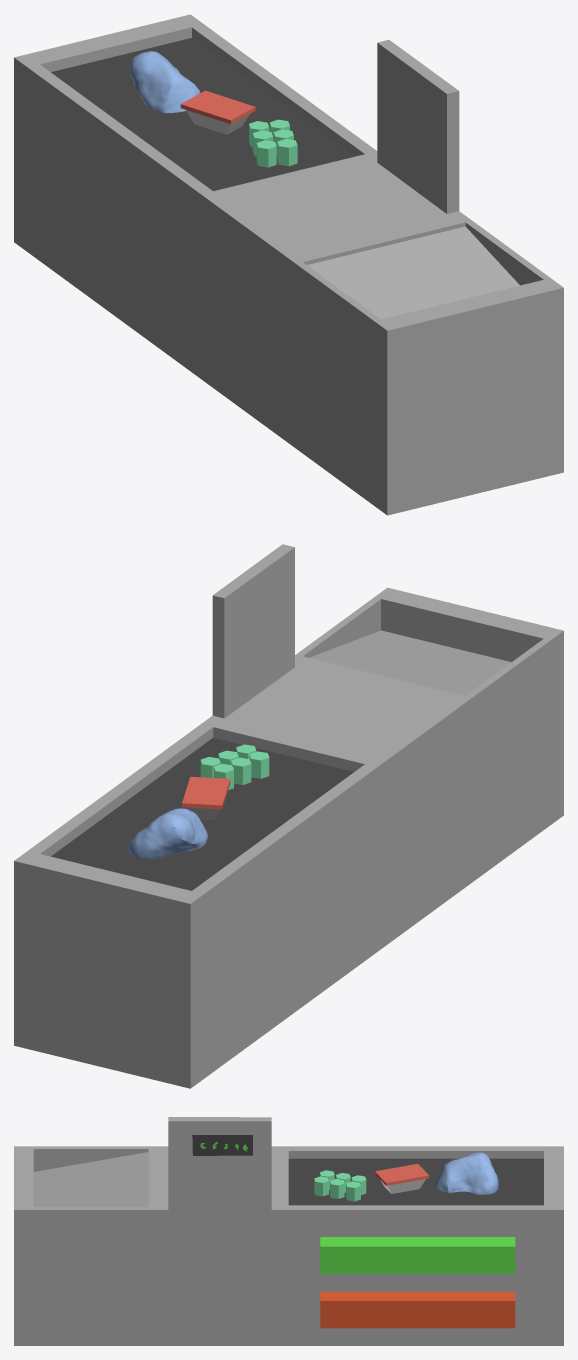
Rendered from market_kasa.fbx.
3 views of the same model, one above another, from view 1: azimuth 30°, elevation 25°; view 2: azimuth 150°, elevation 25°; view 3: azimuth 270°, elevation 25° (orthographic). The views are drawn at different scales.
Visible parts, largest first — view 1: Cube, rock.001, Plane; view 2: Cube, rock.001, Plane; view 3: Cube, rock.001, Plane.
Part boxes in pixels (box(x1,y1,x2,y2)): Cube: box(14, 14, 563, 515); rock.001: box(129, 51, 200, 113); Plane: box(180, 90, 255, 134); Cube: box(14, 544, 563, 1088); rock.001: box(128, 808, 208, 859); Plane: box(182, 776, 230, 820); Cube: box(14, 1117, 563, 1345); rock.001: box(435, 1152, 498, 1194); Plane: box(374, 1164, 429, 1193).
Bounding box in the file's own units: 343 × 492 × 1092.
